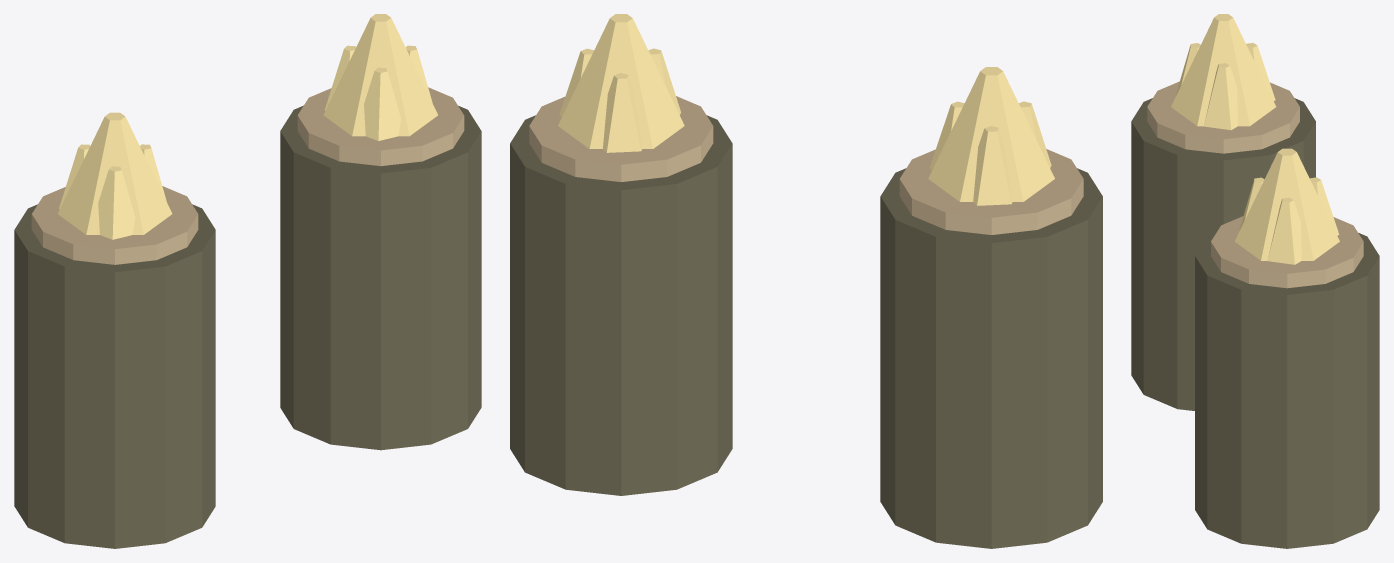
The model's file is SM_BidonFuego_v2_Dos_LOD0.fbx.
3 views of the same model, side by side, from view 1: azimuth 30°, elevation 25°; view 2: azimuth 150°, elevation 25°; view 3: azimuth 270°, elevation 25° (orthographic). The views are drawn at different scales.
Parts seen in each view (by area): view 1: SM_vida_fuerte_v2_LOD0, Emision; view 2: SM_vida_fuerte_v2_LOD0, Emision; view 3: SM_vida_fuerte_v2_LOD0, Emision.
Part boxes in pixels (x1=…): SM_vida_fuerte_v2_LOD0: x1=14, y1=105, x2=481, y2=548; Emision: x1=31, y1=14, x2=464, y2=264; SM_vida_fuerte_v2_LOD0: x1=510, y1=115, x2=1102, y2=548; Emision: x1=529, y1=14, x2=1083, y2=234; SM_vida_fuerte_v2_LOD0: x1=1131, y1=98, x2=1379, y2=548; Emision: x1=1147, y1=14, x2=1363, y2=288.
Size of the model in its own units: 1.58 by 1.24 by 0.78.
